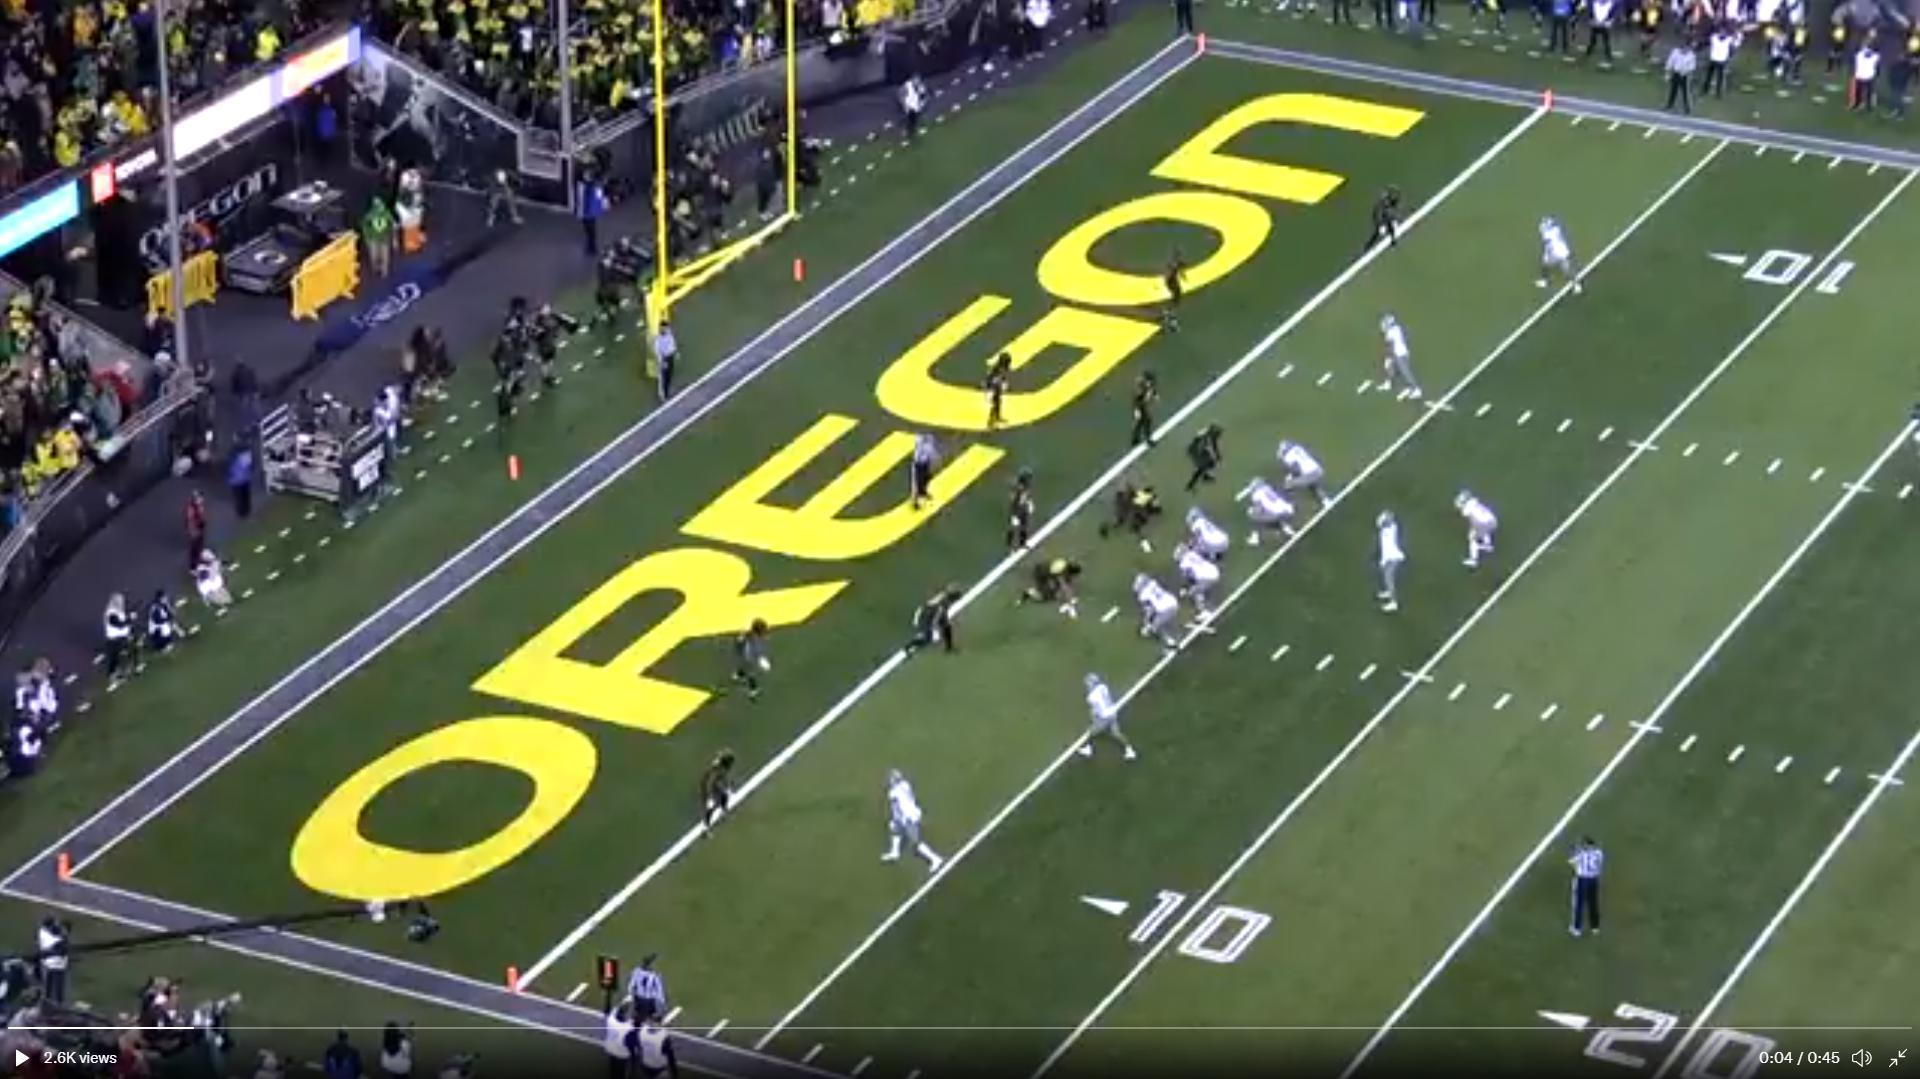defense: (904, 578, 966, 665), (1093, 475, 1159, 553), (697, 746, 750, 843), (1022, 554, 1085, 623), (1365, 187, 1411, 264), (1010, 457, 1045, 553), (737, 617, 776, 703), (1156, 245, 1190, 340), (1131, 364, 1166, 450), (1184, 419, 1223, 493), (981, 348, 1009, 438)
oline: (1134, 568, 1188, 657), (1241, 477, 1300, 552), (1274, 439, 1333, 514), (1172, 544, 1223, 629), (1183, 503, 1231, 589)
qb: (1370, 507, 1408, 625)
ref: (1557, 831, 1615, 944), (1659, 35, 1706, 121), (647, 317, 686, 409), (626, 947, 671, 1021), (909, 429, 943, 515)
skill: (879, 768, 952, 874), (1073, 667, 1140, 766), (1372, 309, 1432, 404), (1535, 211, 1589, 299), (1455, 483, 1501, 579)
